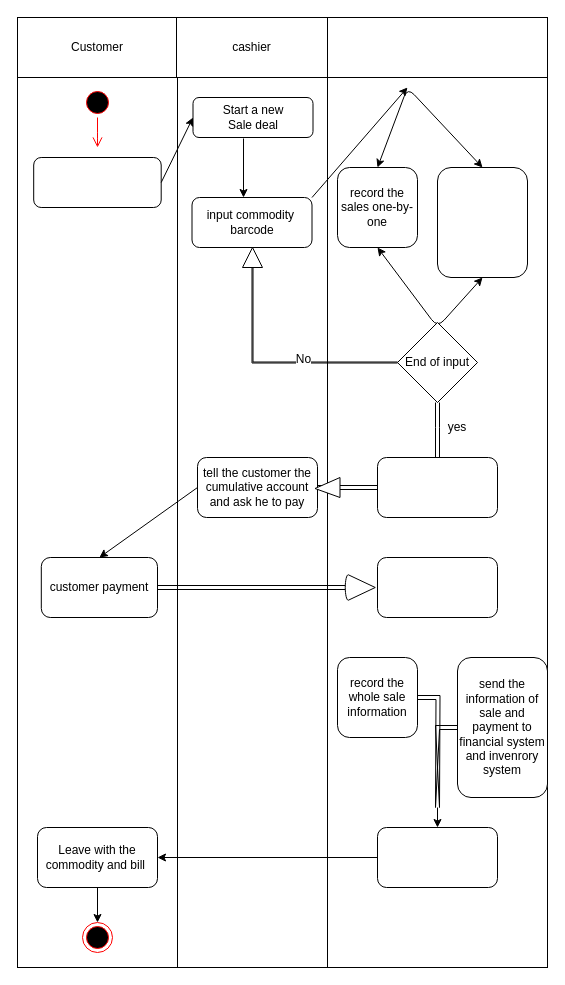
Image size: 565x985. Some labels were removed from this diagram. The box of each missing label's shape, as (x1, y1, x2, y2) in pixels:
Print the bill: (376, 826, 498, 888)
Process payment: (376, 556, 498, 618)
show the cumulative account and tax: (376, 456, 498, 518)
show the price and detail of commodity and the cumulative amount: (436, 166, 528, 278)
System: (326, 16, 548, 78)
携带所购商品或服务到收银台通过pos机付款: (33, 156, 161, 208)
